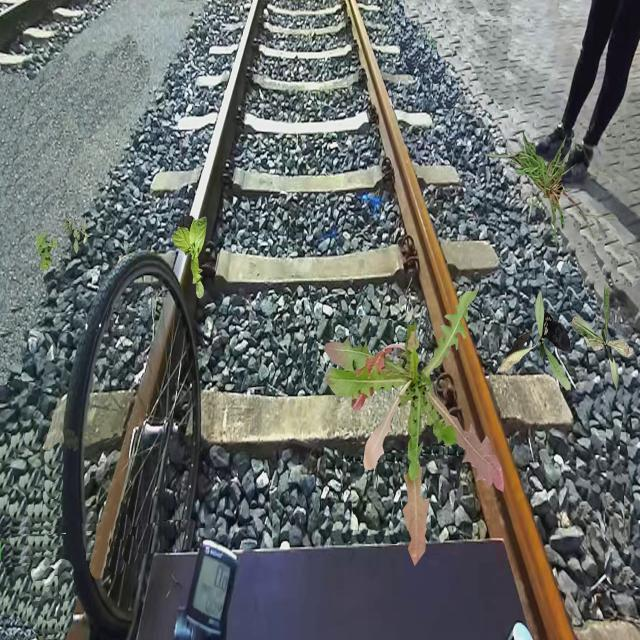Plant: (324, 289, 504, 567), (475, 131, 618, 250), (571, 283, 635, 395), (499, 291, 570, 391), (171, 215, 206, 298), (62, 213, 90, 254), (34, 231, 58, 272)
